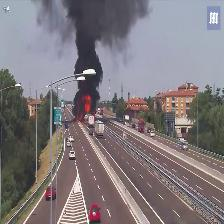fire: (81, 93, 93, 116)
